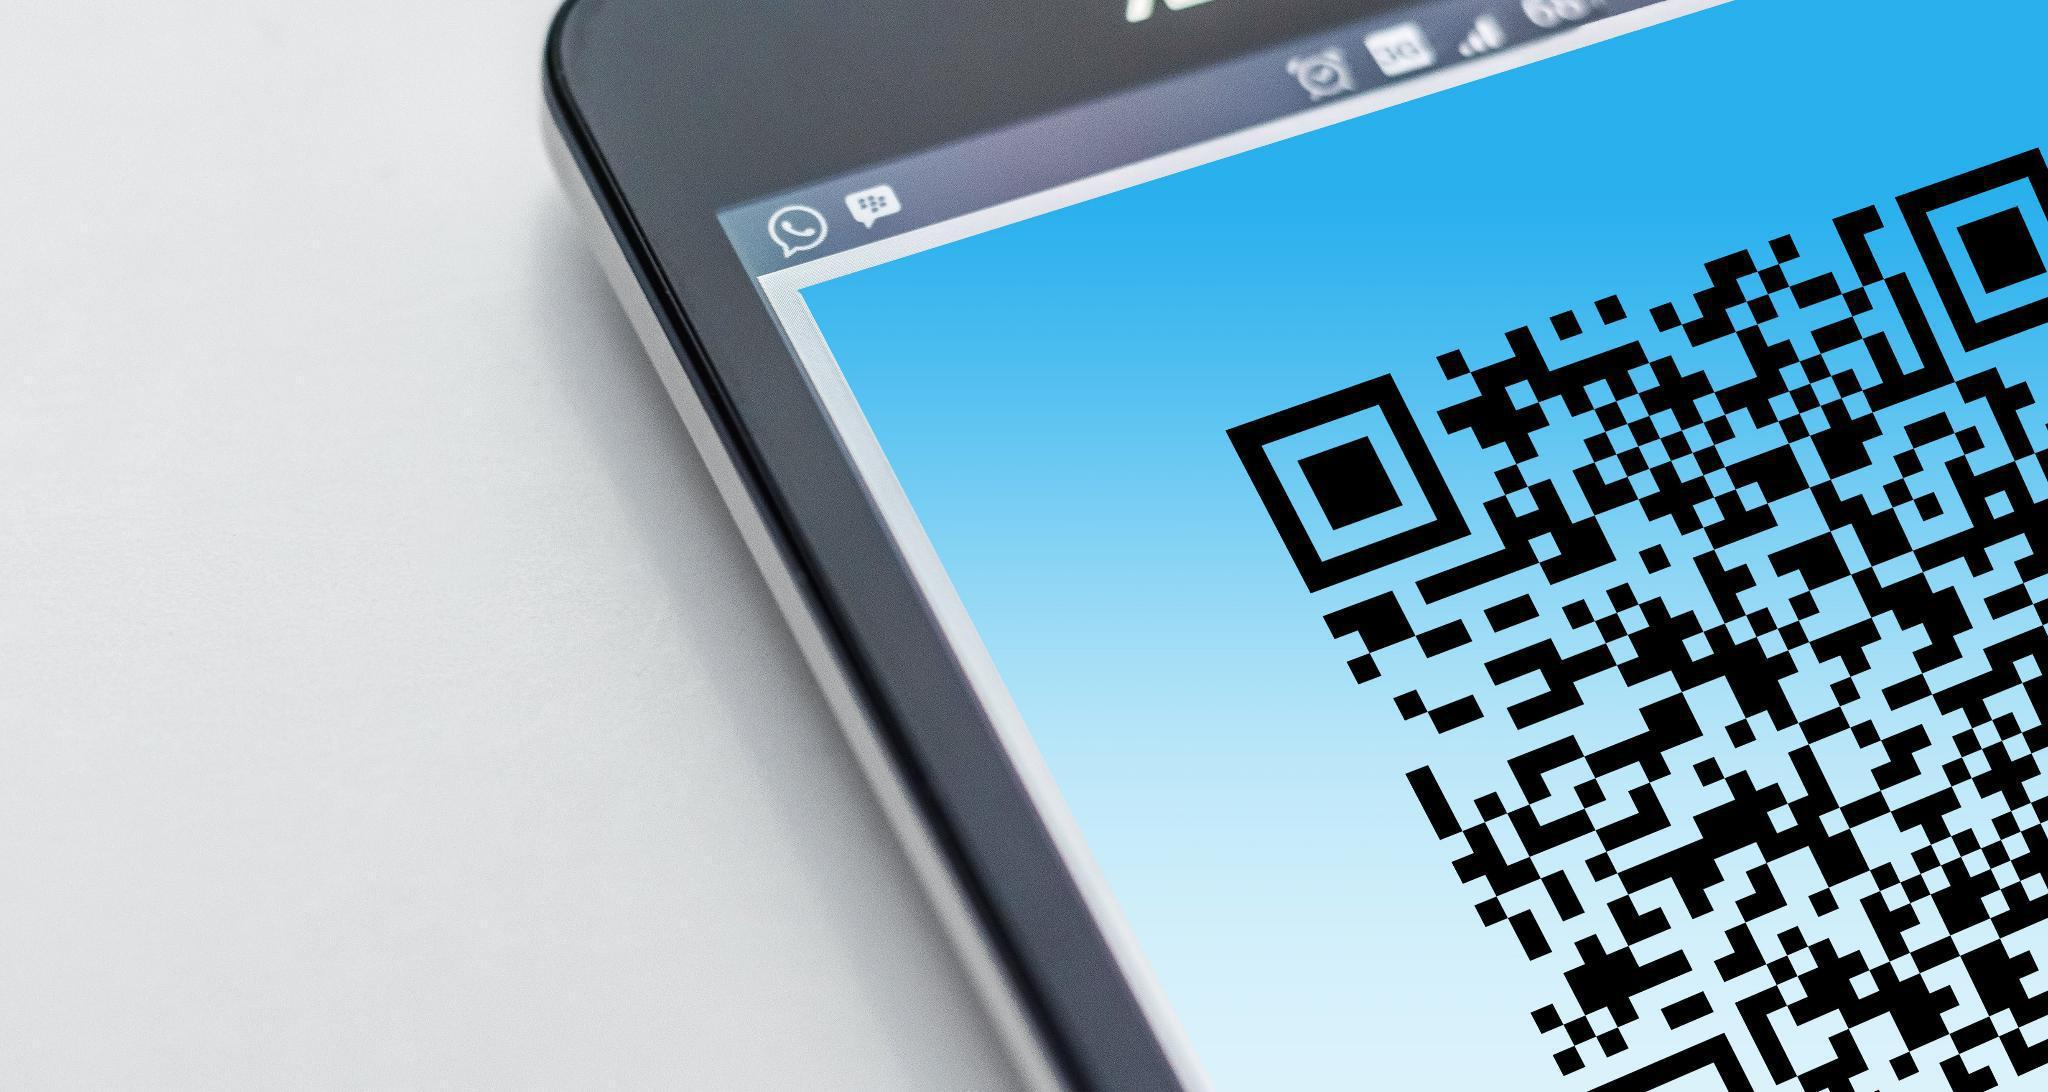qr_code: (1226, 144, 2048, 1092)
